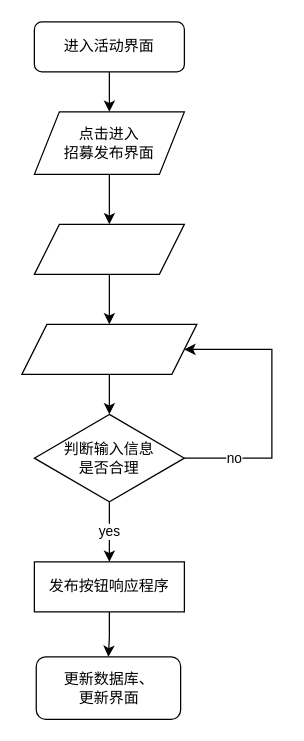
This 304x741 diagram has some shape labels left out. Each missing label, with the centre of its shape:
点击发布按钮: point (108, 248)
输入招募公告信息: point (109, 348)
